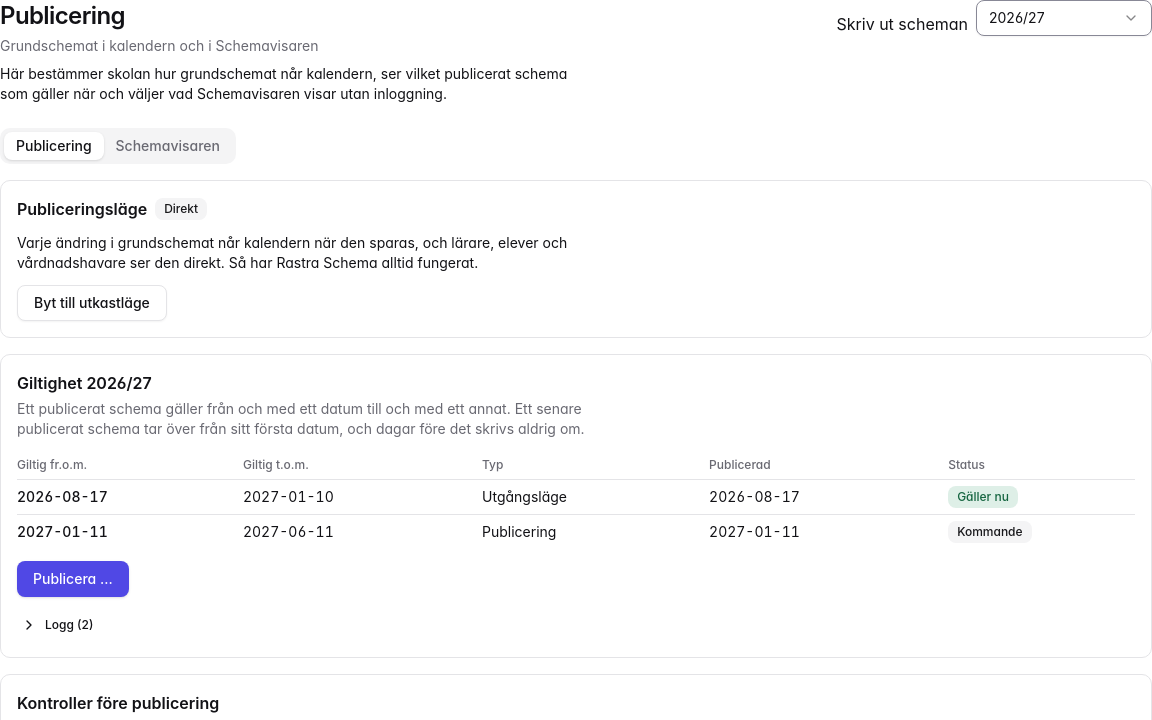
Scenario: /admin/publishing › switches to utkastläge after a confirmation, and says why the way back is refused
Click the button "Byt till utkastläge" at (92, 303), box [17, 285, 167, 321]
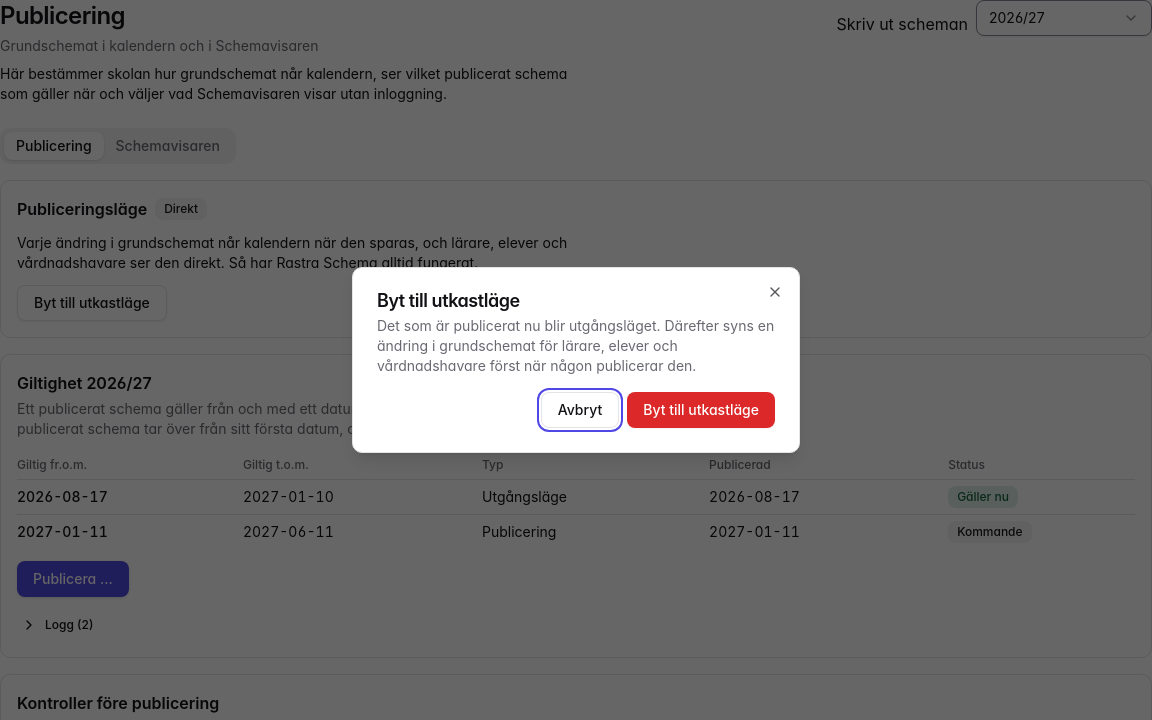
Click the button "Byt till utkastläge" at (701, 410), box [627, 392, 775, 428]
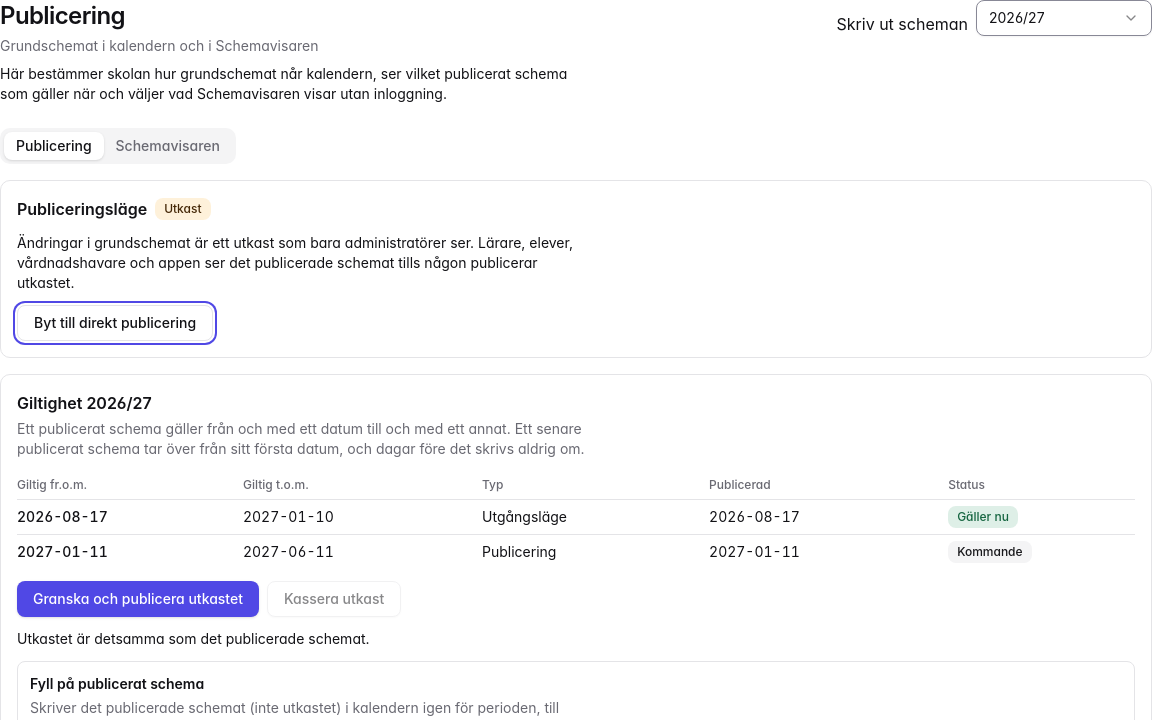
Click the button "Byt till direkt publicering" at (115, 323), box [17, 305, 213, 341]
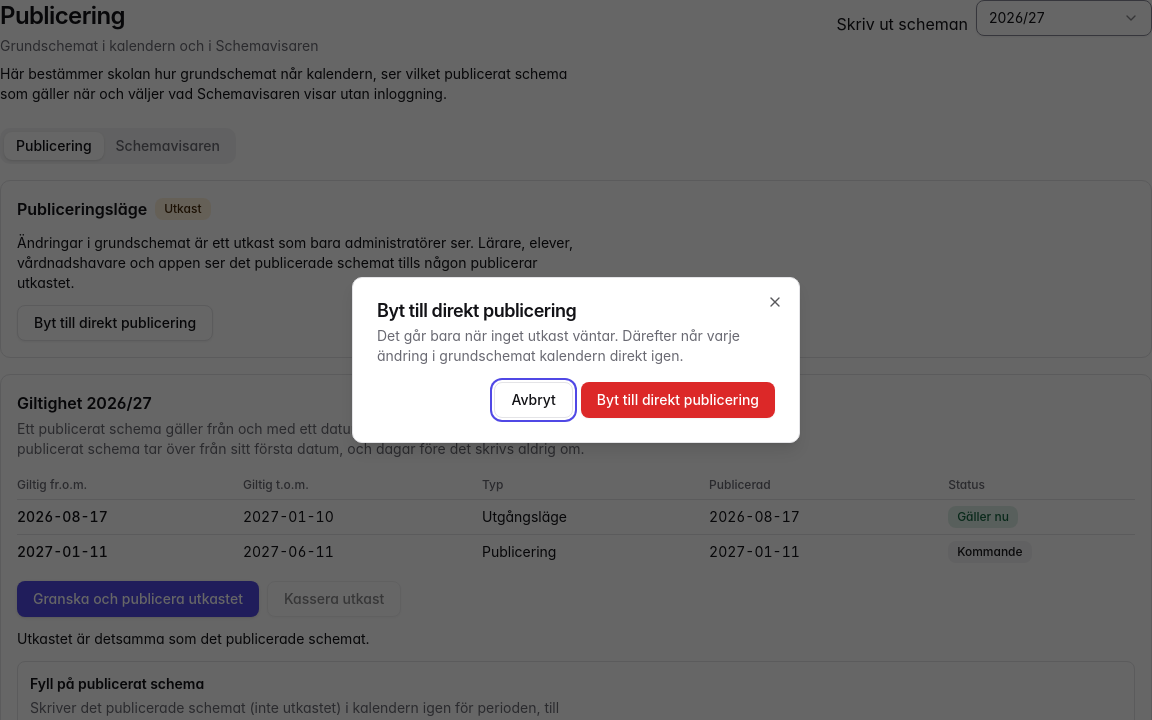
Click the button "Byt till direkt publicering" at (678, 400), box [581, 382, 775, 418]
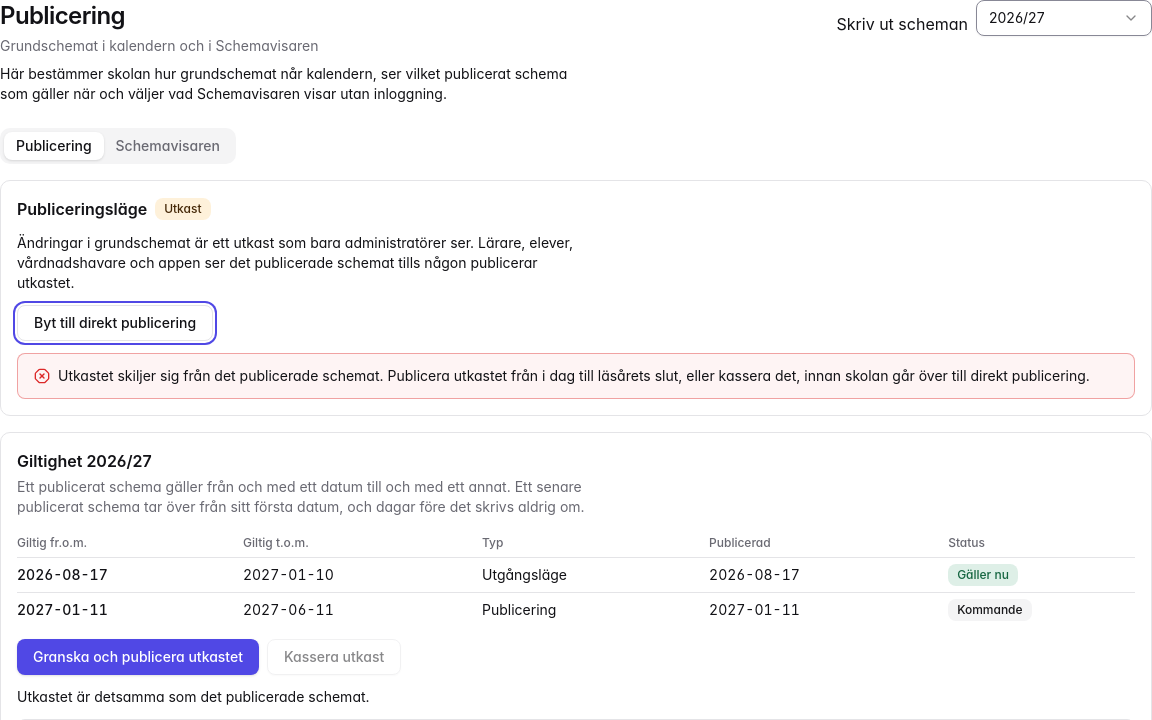
Check: the message shows "Utkastet skiljer sig från det publicerade schemat. Publicera utkastet från i dag till läsårets slut", box [58, 367, 1090, 384]
